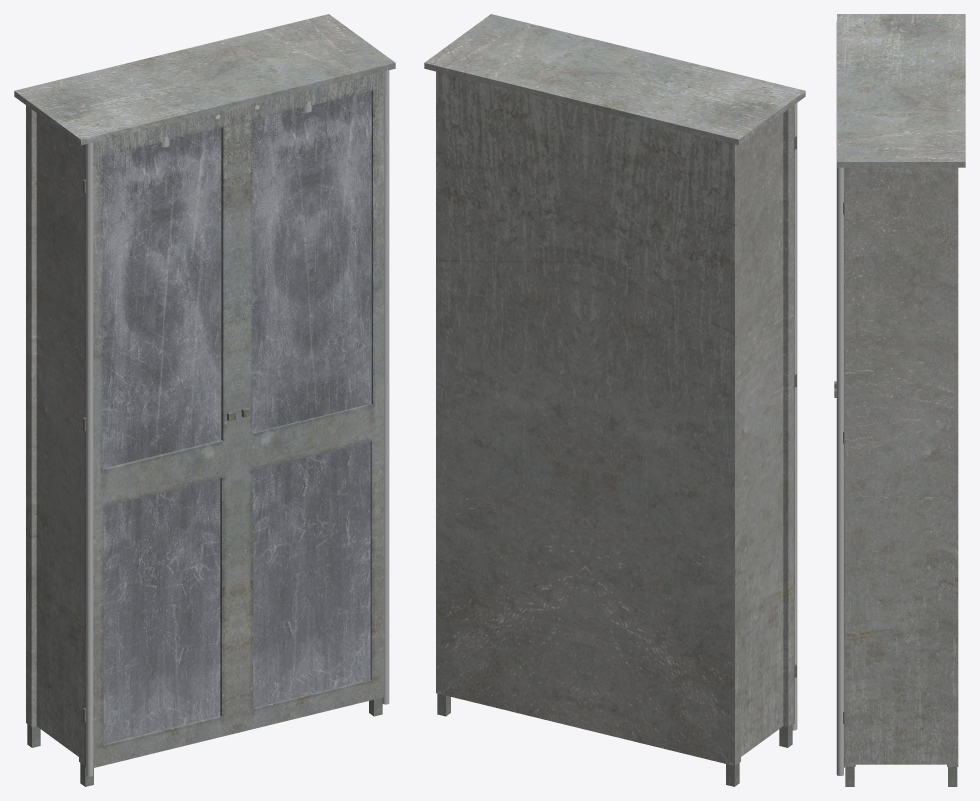
Rendered from furniture_cupboard_metal01.dae.
The picture shows the model from 3 angles, left to right: view 1: azimuth 30°, elevation 25°; view 2: azimuth 150°, elevation 25°; view 3: azimuth 270°, elevation 25°; orthographic projection. The views are drawn at different scales.
Parts seen in each view (by area): view 1: rightdoorglass, leftdoorglass, glasscupboard, leftdoorframe, rightdoorframe, _joint_hinge_leftdoorframe_null_135_0_nocollide_jointleft, _joint_hinge_rightdoorframe_null_0_135_nocollide_jointright; view 2: glasscupboard, _joint_hinge_leftdoorframe_null_135_0_nocollide_jointleft, leftdoorframe; view 3: glasscupboard, _joint_hinge_rightdoorframe_null_0_135_nocollide_jointright, rightdoorframe.
Part boxes in pixels (x1,y1,x2,y2): rightdoorglass: (252,91,371,707); leftdoorglass: (102,128,221,743); glasscupboard: (14,14,395,786); leftdoorframe: (83,107,237,768); rightdoorframe: (237,71,384,732); _joint_hinge_leftdoorframe_null_135_0_nocollide_jointleft: (86,140,93,776); _joint_hinge_rightdoorframe_null_0_135_nocollide_jointright: (382,67,389,704); glasscupboard: (424,14,805,786); _joint_hinge_leftdoorframe_null_135_0_nocollide_jointleft: (792,103,797,730); leftdoorframe: (793,104,796,723); glasscupboard: (837,14,965,786); _joint_hinge_rightdoorframe_null_0_135_nocollide_jointright: (836,161,843,775); rightdoorframe: (834,167,844,767).
Size of what is drawn, in the model's own units: 1.05 by 2.08 by 0.3952.
